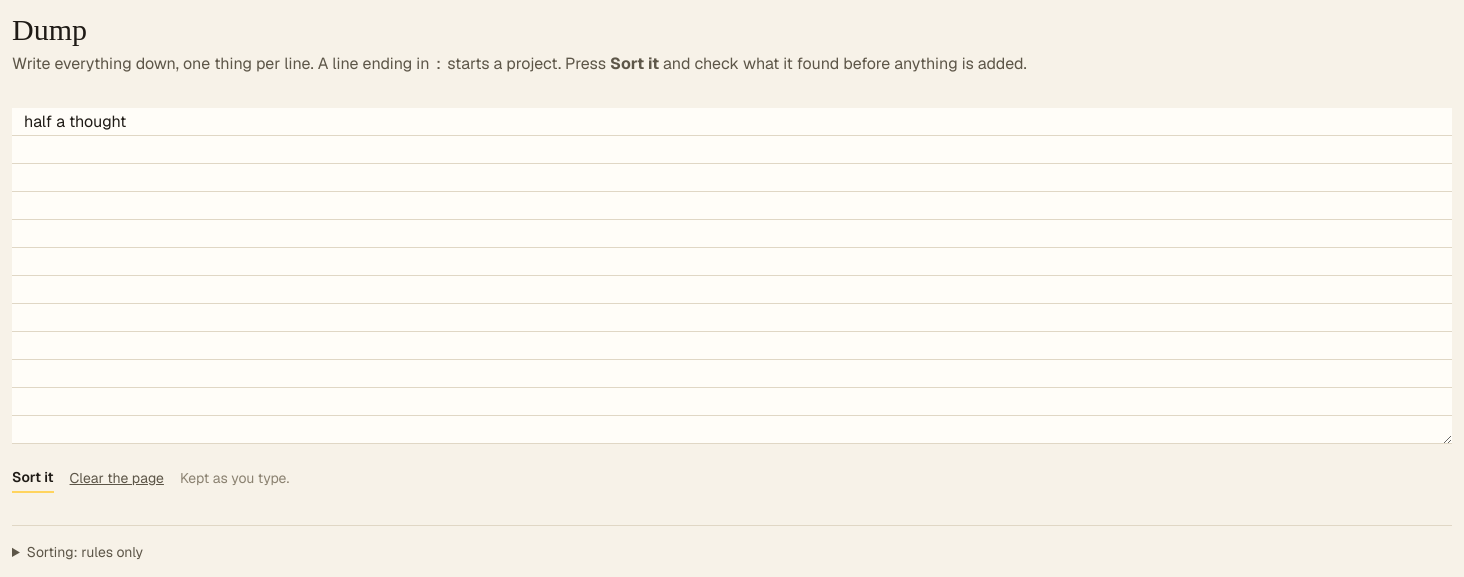
Dump screen › clears the page when you ask it to
The width and height of the screenshot is (1464, 577).
Click the button "Clear the page" at coordinates (117, 478), box [70,464,164,492]
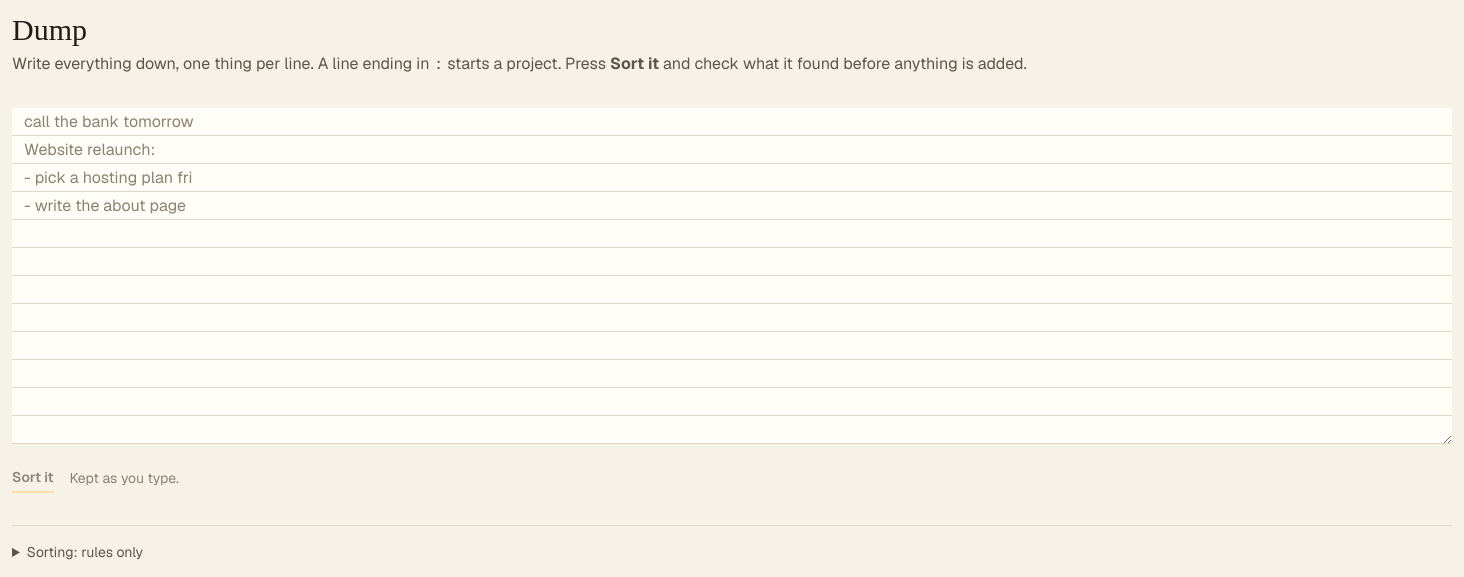
Now the text box named "Your dump" is empty, box [12,108,1452,444]
